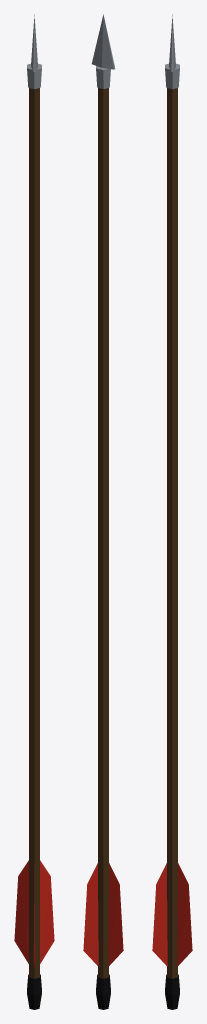
Rendered from Arrow.obj.
The picture shows the model from 3 angles, left to right: view 1: azimuth 90°, elevation 25°; view 2: azimuth 150°, elevation 25°; view 3: azimuth 270°, elevation 25°; orthographic projection.
Parts seen in each view (by area): view 1: Ash, Feather, Steel, Polymer; view 2: Ash, Feather, Steel, Polymer; view 3: Ash, Feather, Steel, Polymer.
Boxes of the visible parts, bbox=[...] form: Ash: bbox=[29, 88, 39, 978]; Feather: bbox=[14, 860, 54, 967]; Steel: bbox=[27, 14, 41, 88]; Polymer: bbox=[27, 974, 41, 1009]; Ash: bbox=[98, 88, 108, 978]; Feather: bbox=[83, 863, 123, 966]; Steel: bbox=[91, 14, 115, 88]; Polymer: bbox=[96, 974, 110, 1009]; Ash: bbox=[167, 88, 177, 978]; Feather: bbox=[152, 863, 192, 966]; Steel: bbox=[165, 14, 179, 88]; Polymer: bbox=[165, 974, 179, 1009].
Size of the model in its own units: 0.025 by 0.757 by 0.0277.
